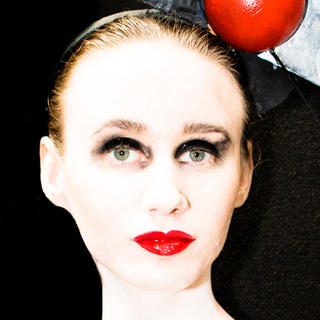eye: (92, 138, 155, 172), (167, 139, 223, 169)
